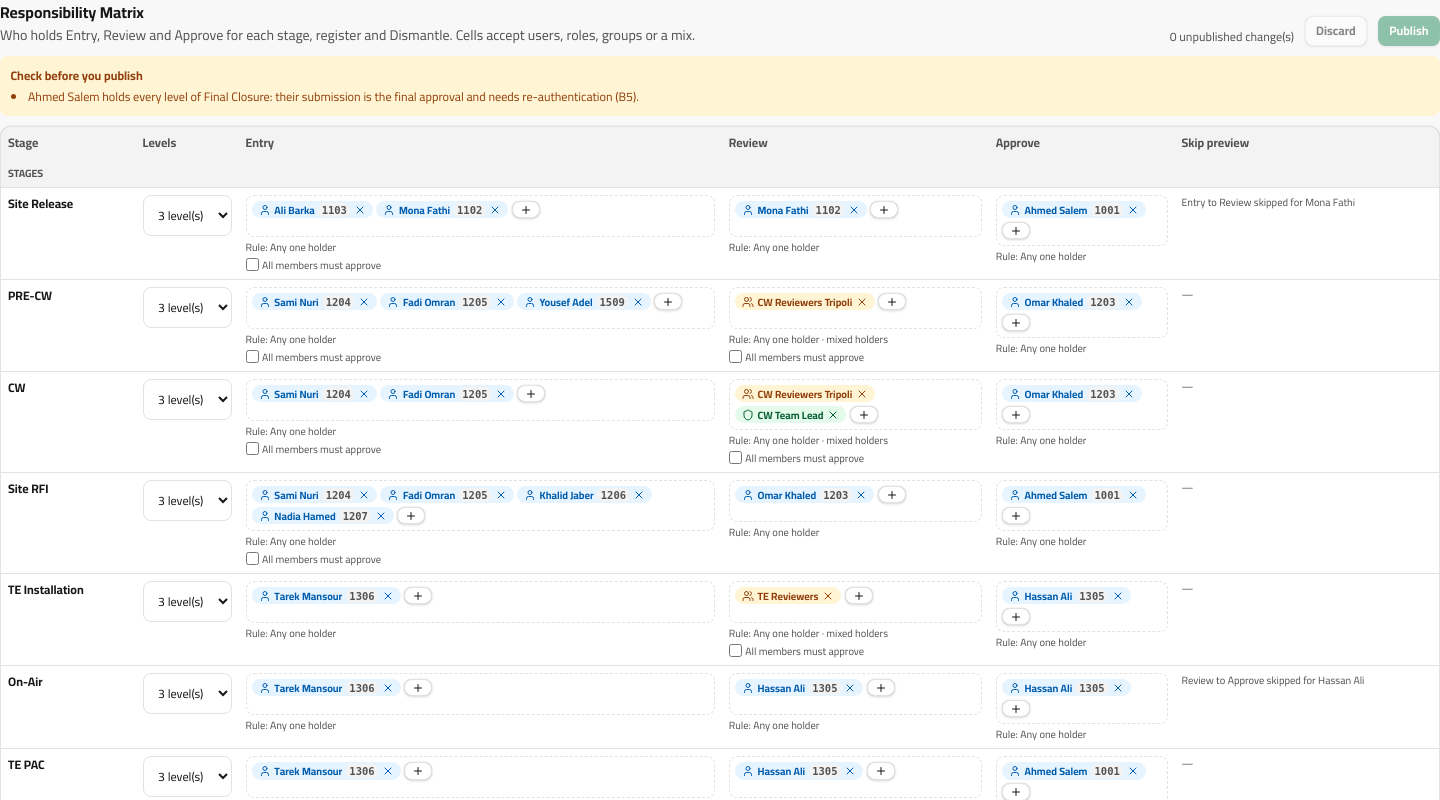
Test: Matrix page with a 2-level row › names the level that has no holder from Problem.cells of the 422 empty_cell answer, not from errors[]
Select "2 level(s)" in the dropdown with test id "matrix-levels-cw" at (187, 399), box [143,378,232,420]
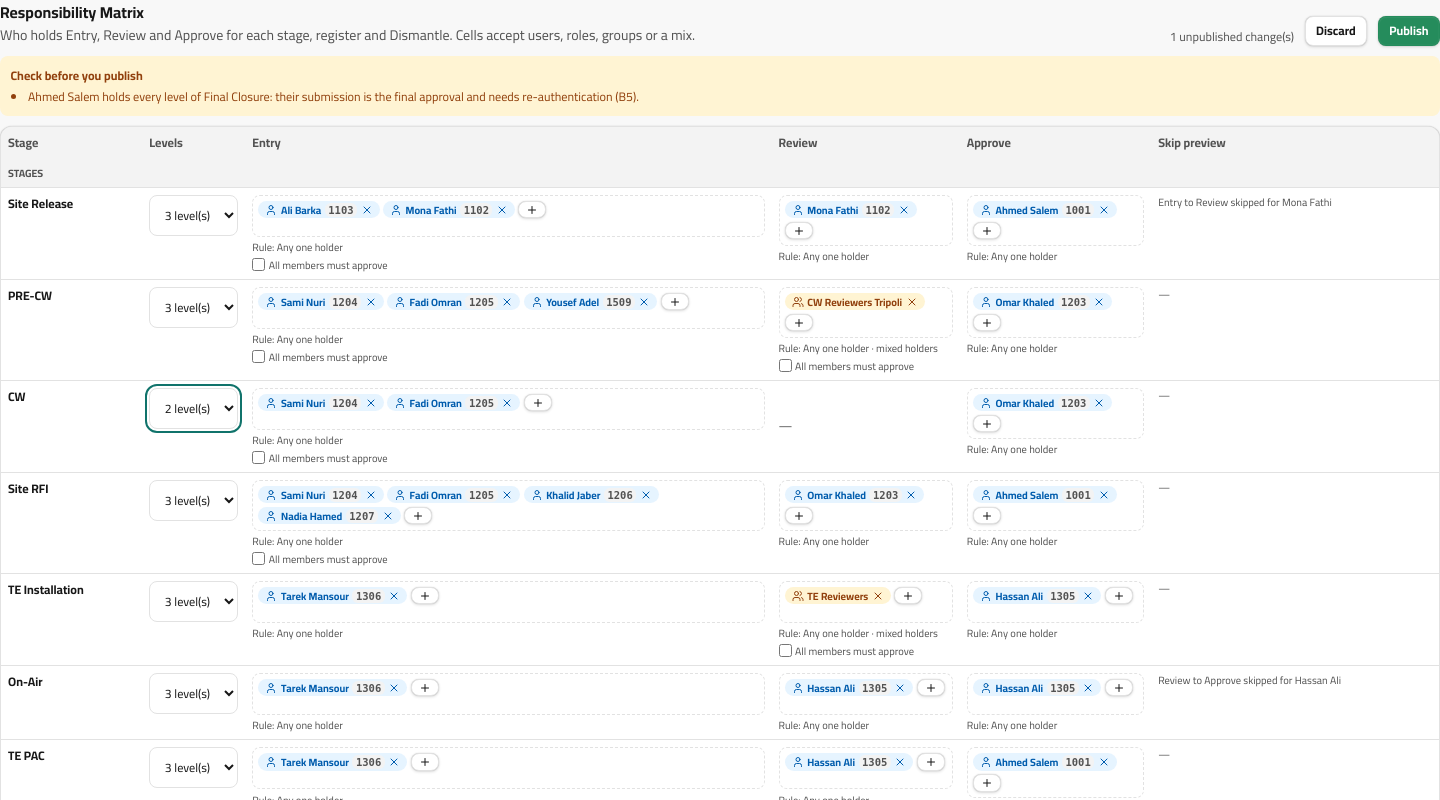
Click the button with test id "matrix-publish" at (1409, 30), box [1378,16,1439,46]
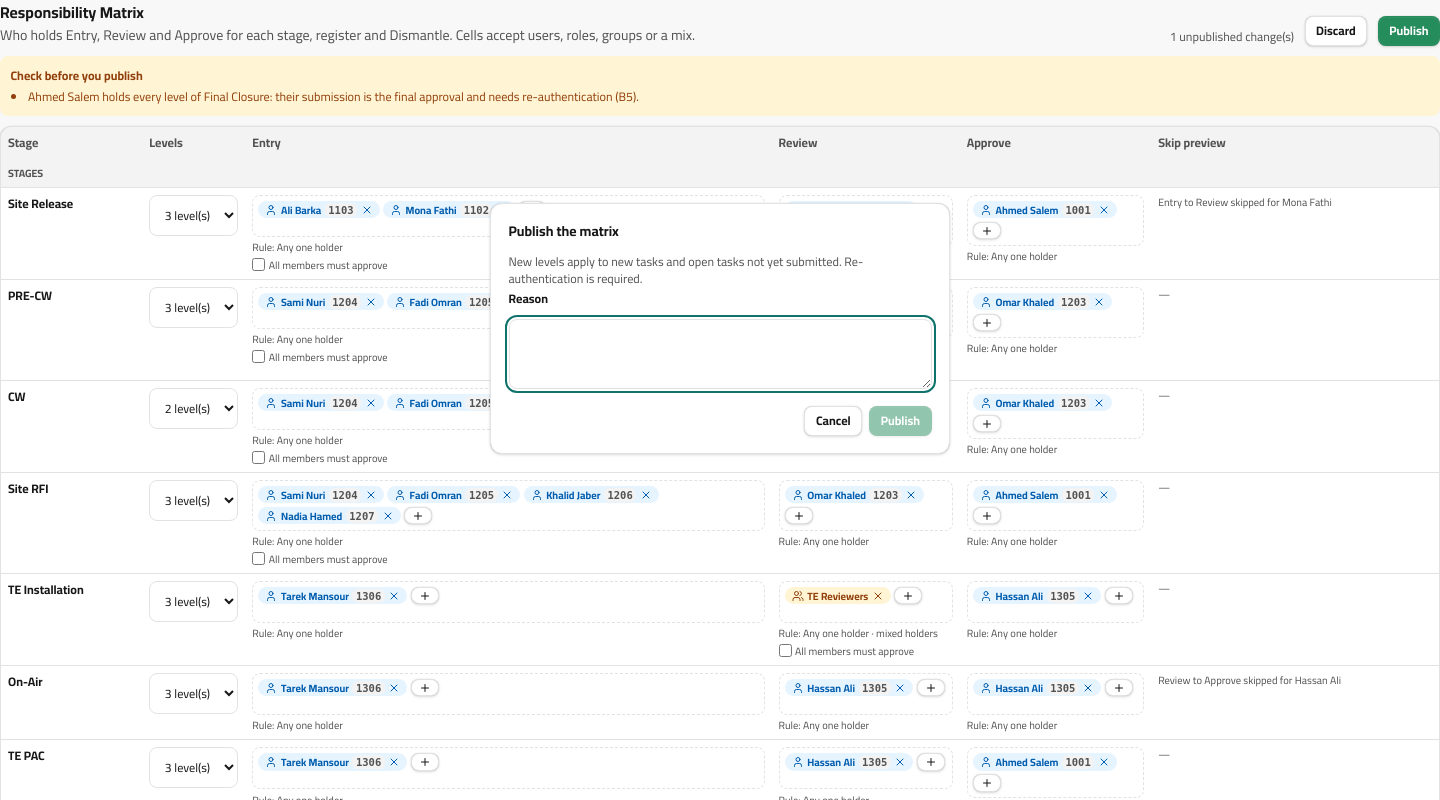
Type "Two levels" into the text box with test id "matrix-reason" at (720, 354), box [508,319,932,389]
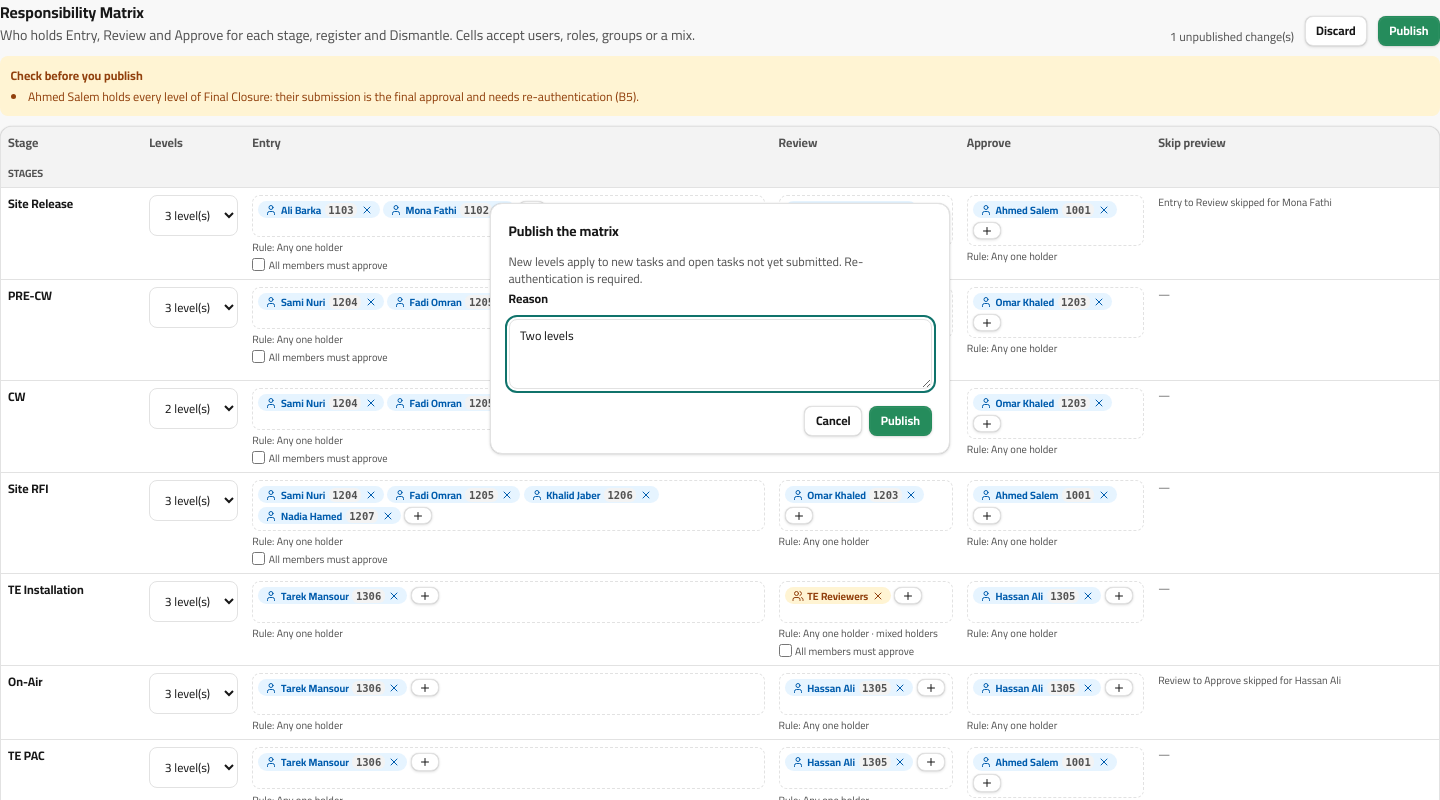
Click the button with test id "matrix-publish-confirm" at (900, 420), box [869,406,932,436]
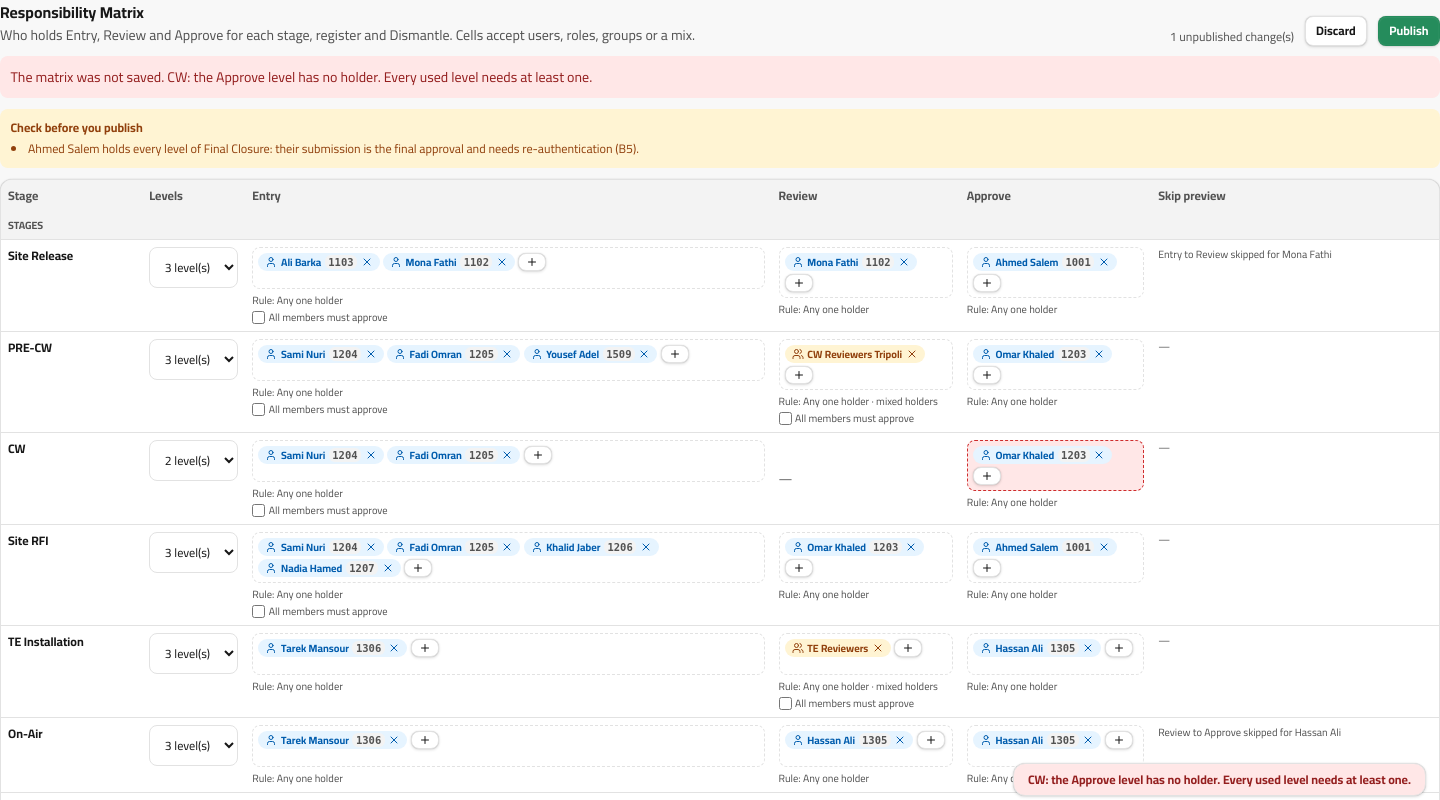
Now the message with test id "matrix-error" shows "CW: the Approve level has no holder", box [167,64,592,90]
